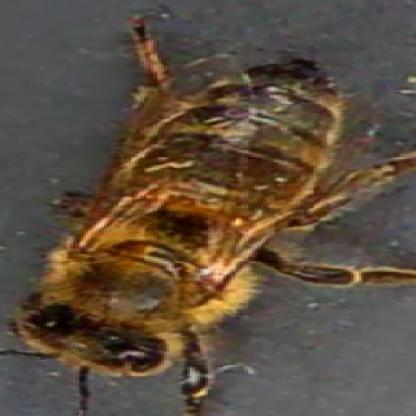bee: (17, 64, 356, 361)
